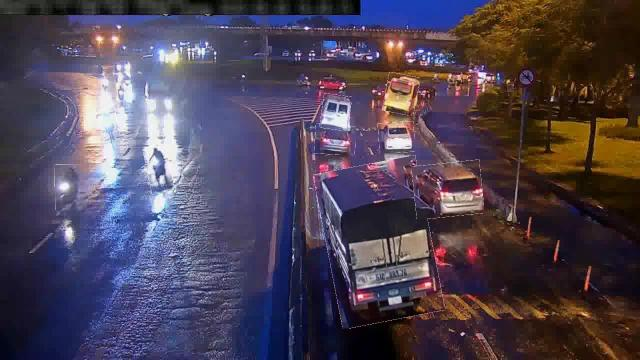Bike: (144, 144, 172, 194), (56, 165, 84, 211), (100, 108, 120, 142)
Bus: (384, 73, 418, 115), (321, 94, 351, 130)
Car: (413, 162, 483, 218), (314, 125, 356, 155), (378, 121, 414, 152)
Truck: (320, 160, 438, 324)
